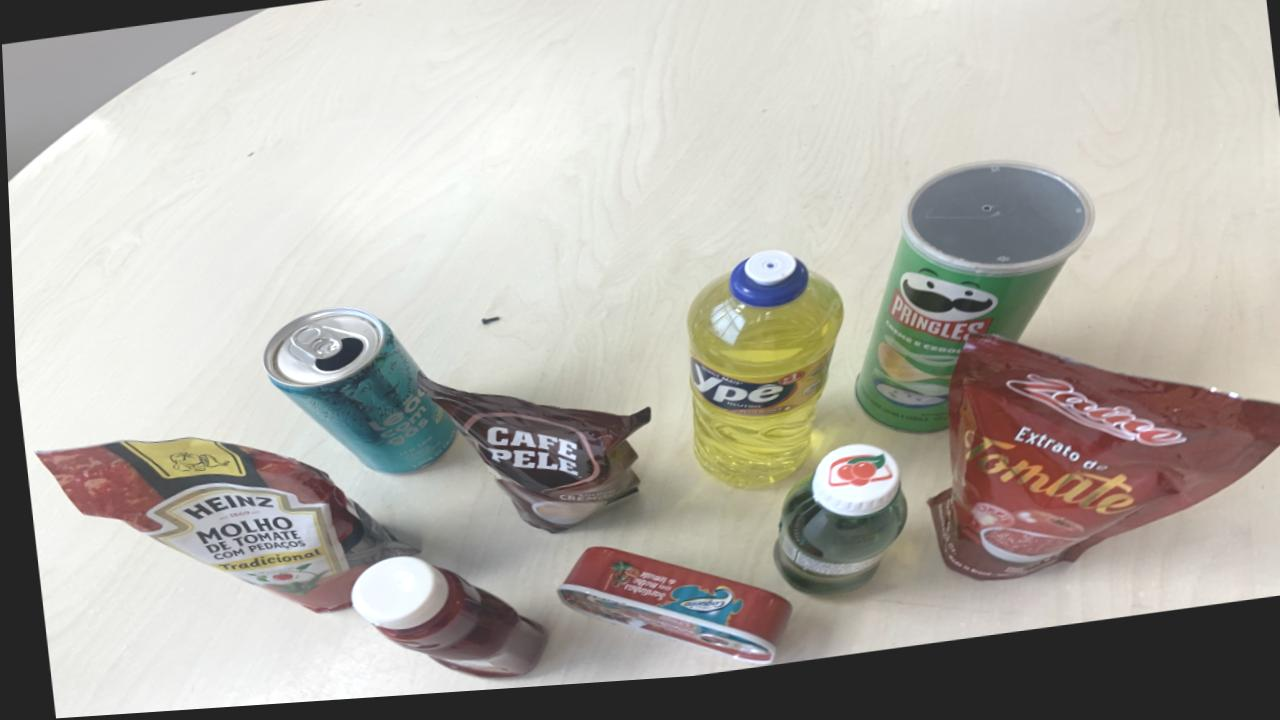Coffee-Pantry_Items: (414, 378, 646, 540)
Detergent-Cleanup_Items: (683, 260, 840, 497)
Guarana-Drinks: (768, 455, 901, 605)
Ketchup-Pantry_Items: (344, 561, 540, 685)
Pringles-Snacks: (851, 174, 1091, 445)
Tea-Drinks: (260, 311, 452, 478)
Tomato_Sauce-Pantry_Items: (33, 440, 410, 617)
Tuna_Can-Pantry_Items: (924, 348, 1280, 593), (550, 554, 785, 674)
